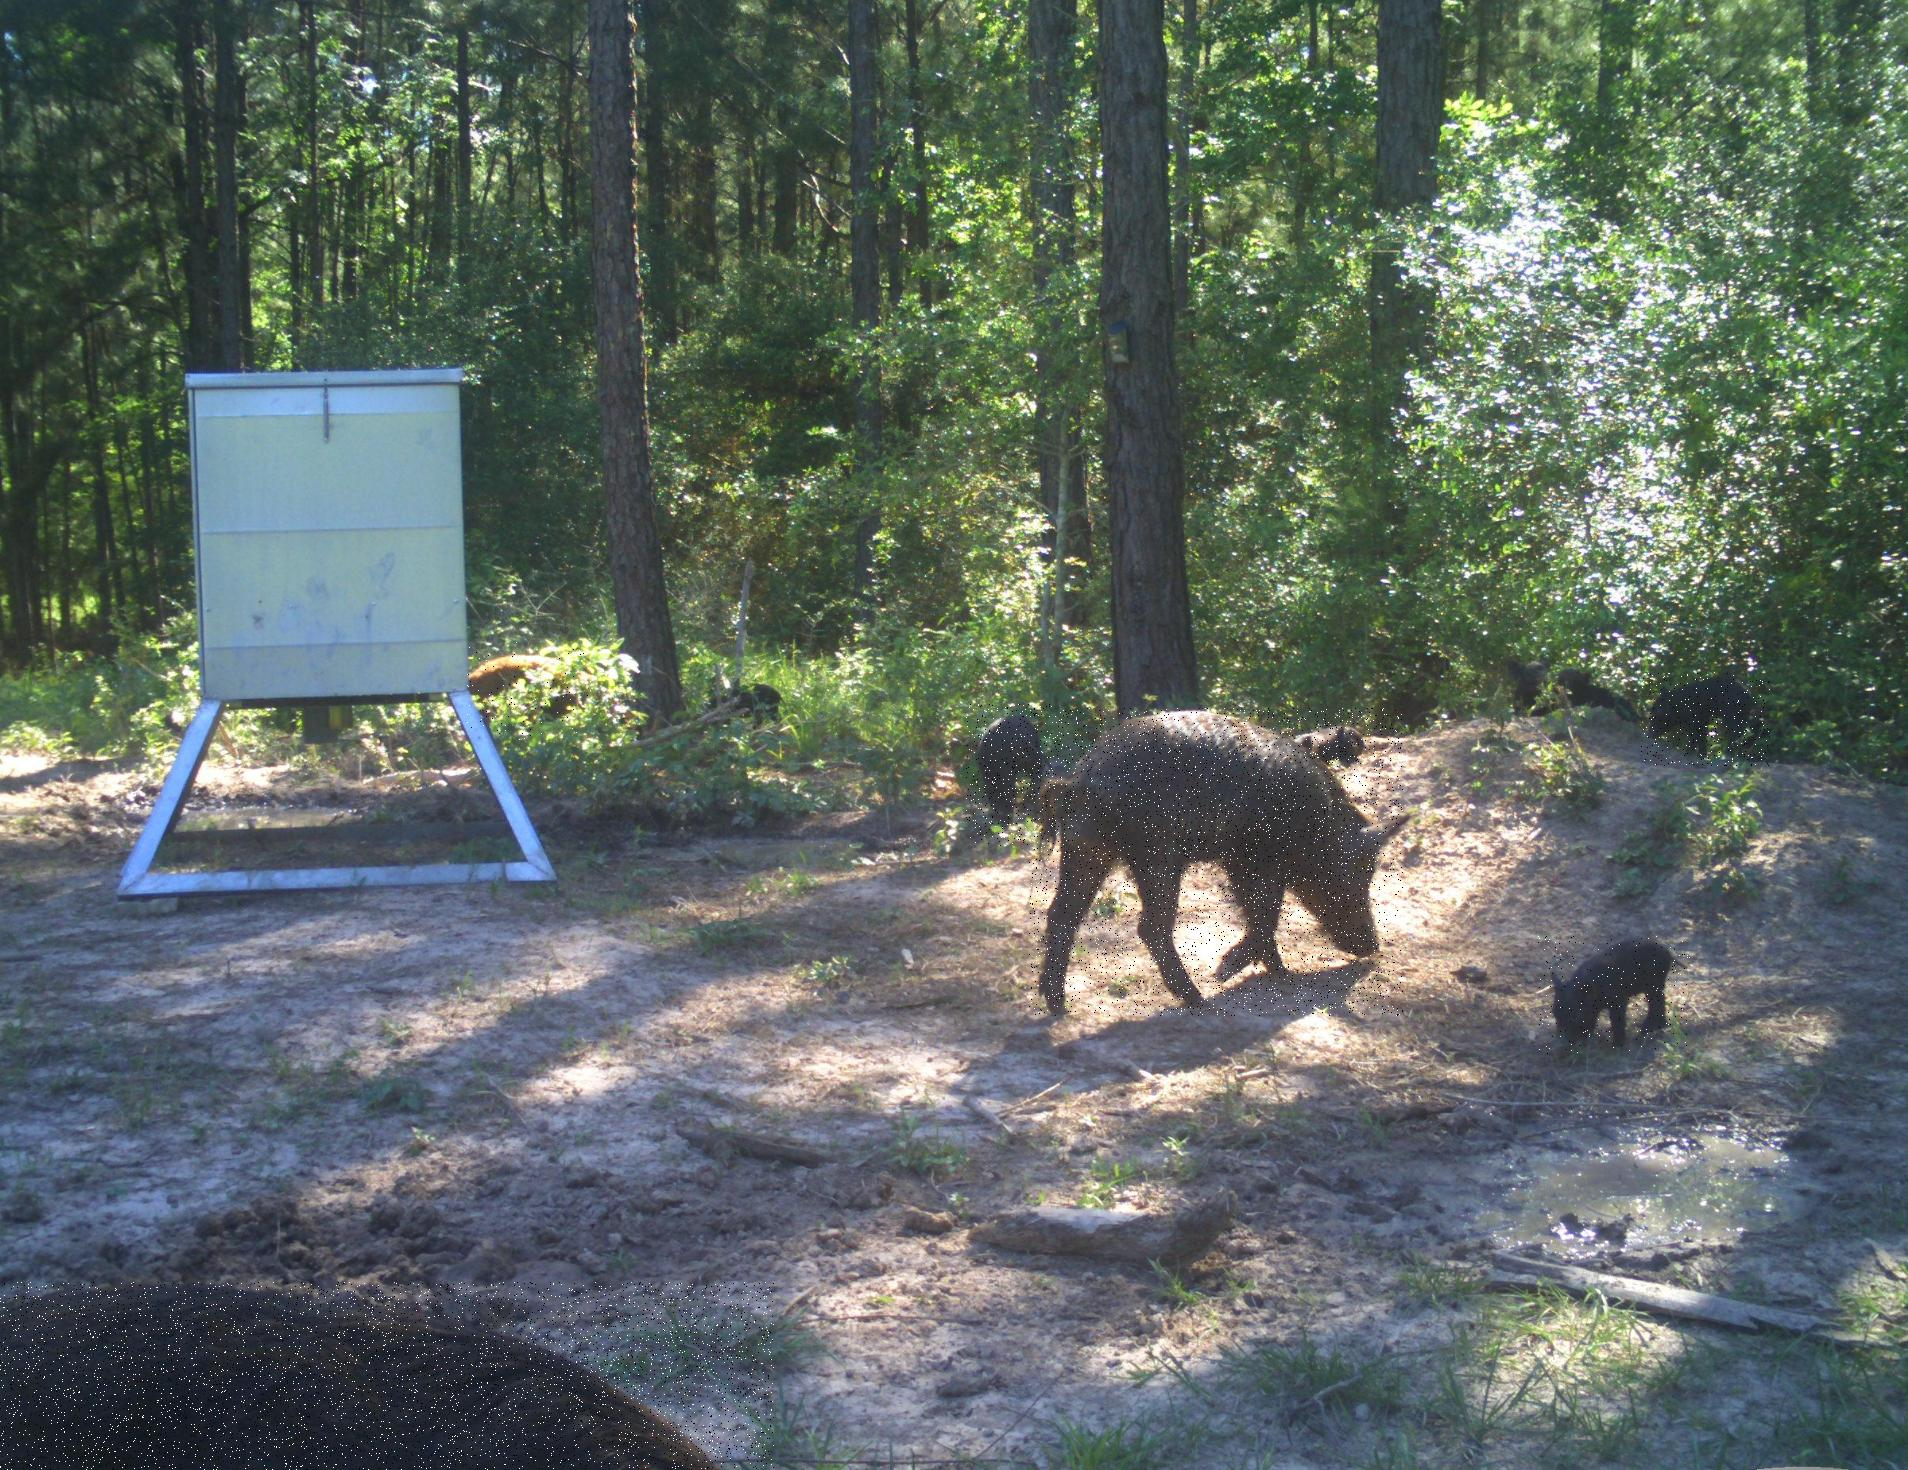Hog: (0, 1282, 773, 1470), (1030, 707, 1403, 1016), (1538, 936, 1690, 1053), (966, 704, 1054, 846), (1641, 672, 1769, 766), (468, 642, 591, 740)
